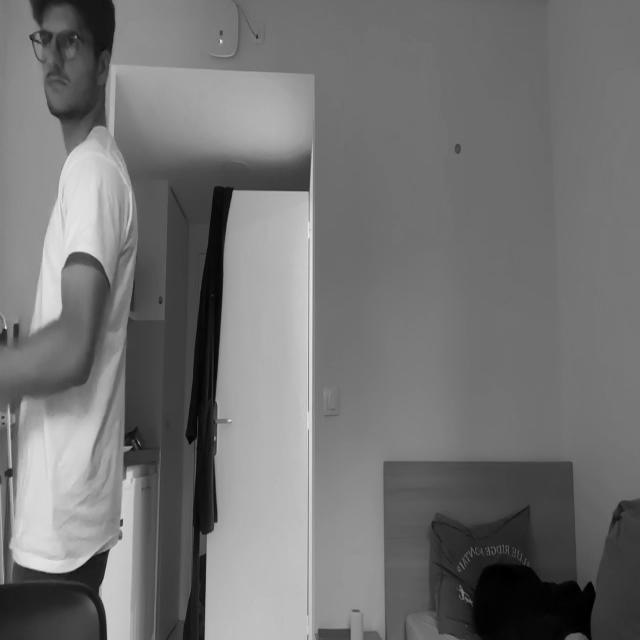elbow: (56, 311, 90, 389)
shoulder: (61, 142, 123, 253)
